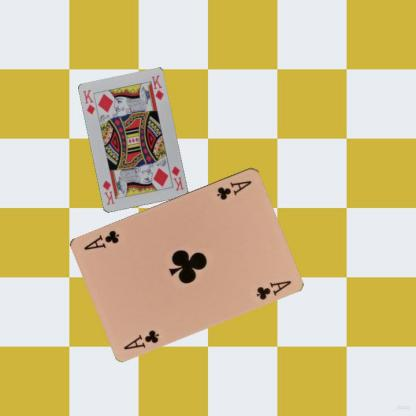Ac: (214, 177, 253, 201), (121, 327, 160, 351)
Kd: (170, 163, 186, 192), (80, 87, 96, 116)
